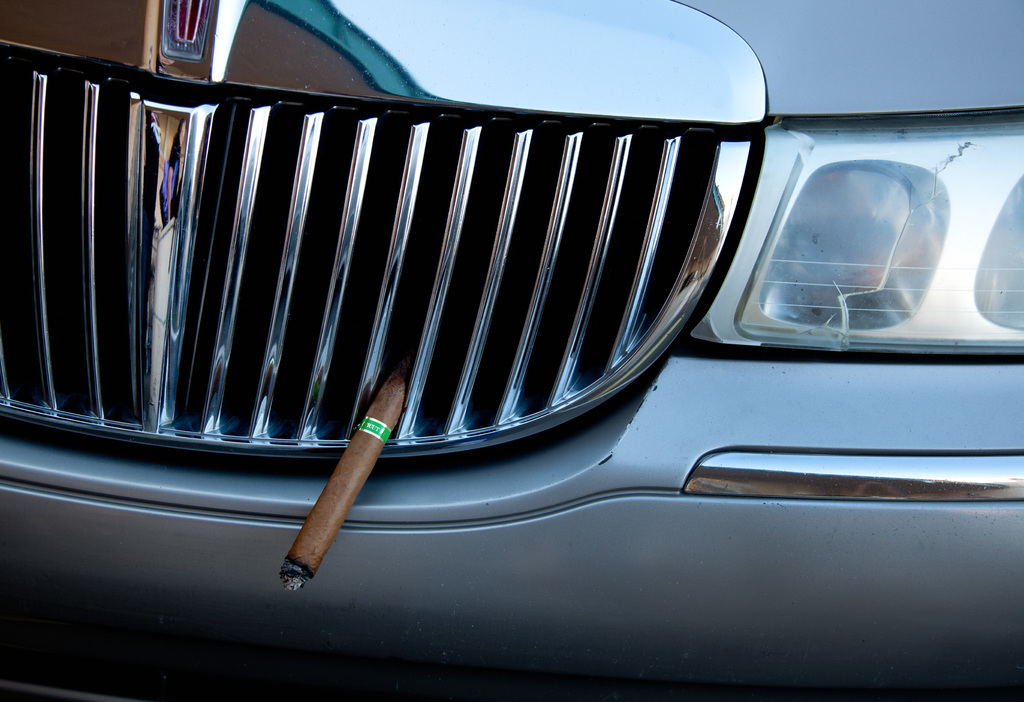Car: (0, 1, 1023, 701)
